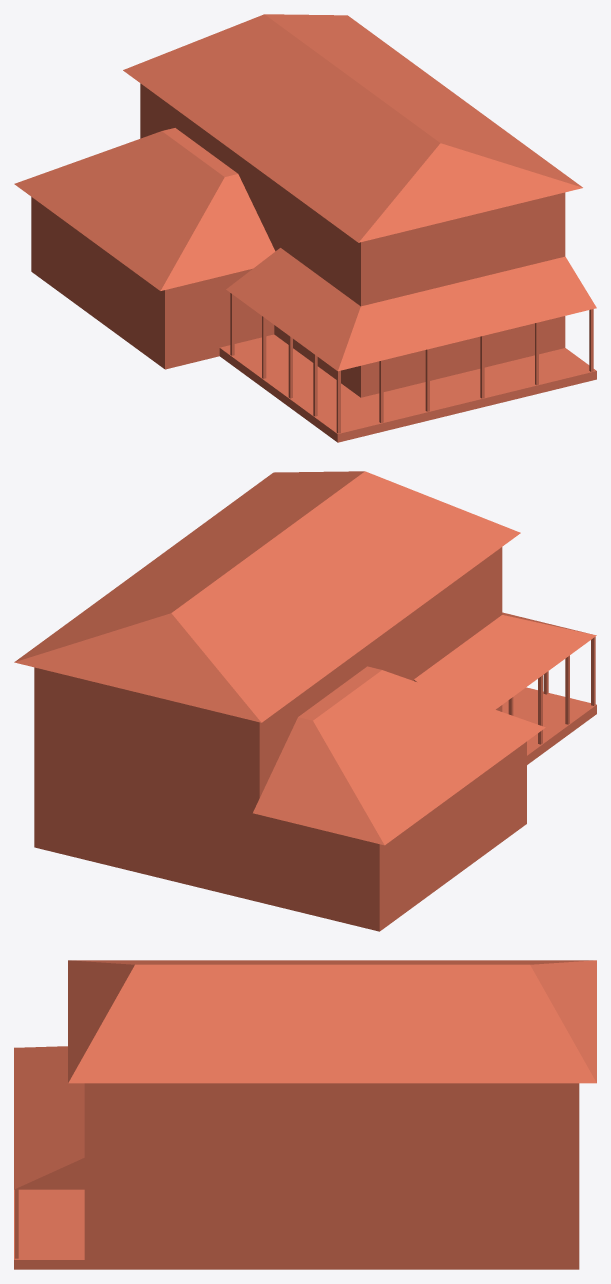
Rendered from BigHouseRemovedPieces.glb.
The picture shows the model from 3 angles, top to bottom: view 1: azimuth 30°, elevation 25°; view 2: azimuth 150°, elevation 25°; view 3: azimuth 270°, elevation 25°; orthographic projection. The views are drawn at different scales.
Visible parts, largest first — view 1: MainHousePiece-col, SideRoomRoof-col, Pillers-col; view 2: MainHousePiece-col, SideRoomRoof-col, Pillers-col; view 3: MainHousePiece-col, Pillers-col.
Boxes of the visible parts, left/top/right/bottom form: MainHousePiece-col: left=123, top=14, right=582, bottom=397; SideRoomRoof-col: left=14, top=128, right=275, bottom=369; Pillers-col: left=219, top=248, right=596, bottom=442; MainHousePiece-col: left=14, top=471, right=520, bottom=902; SideRoomRoof-col: left=253, top=666, right=545, bottom=931; Pillers-col: left=414, top=612, right=596, bottom=764; MainHousePiece-col: left=68, top=960, right=596, bottom=1269; Pillers-col: left=14, top=1046, right=84, bottom=1269.
Bounding box in the file's own units: 12.29 × 7.77 × 16.5.
